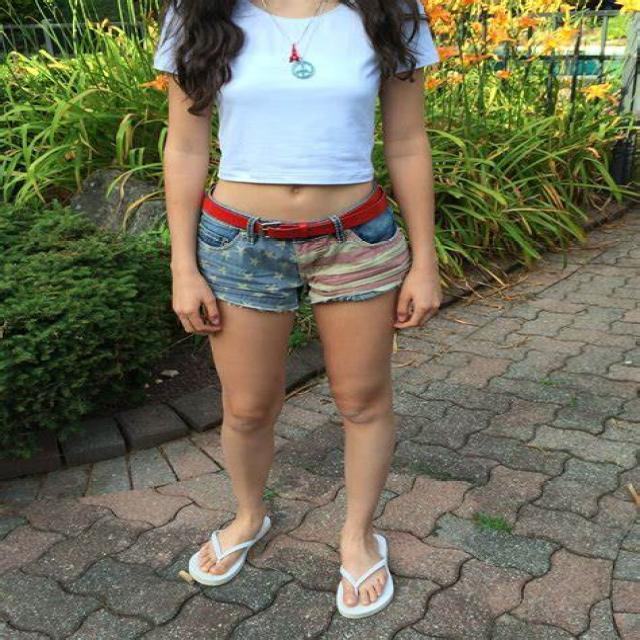No_Glove: (167, 256, 232, 337), (393, 259, 457, 333)
No_Shoe: (191, 501, 276, 589), (332, 520, 400, 622)
